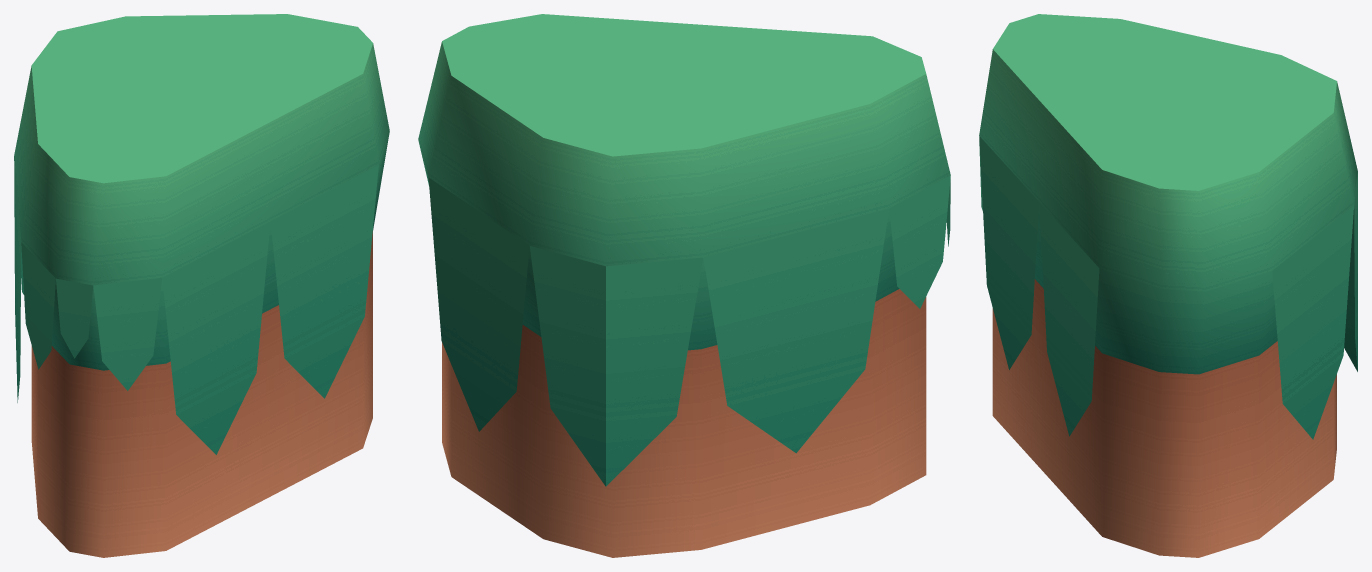
File: block-grass-corner-overhang-low.020_lev2.glb
The picture shows the model from 3 angles, left to right: view 1: azimuth 30°, elevation 25°; view 2: azimuth 150°, elevation 25°; view 3: azimuth 270°, elevation 25°; orthographic projection. The views are drawn at different scales.
Parts seen in each view (by area): view 1: block-grass-corner-overhang-low.020_lev2; view 2: block-grass-corner-overhang-low.020_lev2; view 3: block-grass-corner-overhang-low.020_lev2.
Boxes of the visible parts, x1=… form: block-grass-corner-overhang-low.020_lev2: x1=14, y1=14, x2=389, y2=557; block-grass-corner-overhang-low.020_lev2: x1=418, y1=14, x2=950, y2=557; block-grass-corner-overhang-low.020_lev2: x1=979, y1=14, x2=1357, y2=557.
Bounding box in the file's own units: 3.25 × 2.86 × 2.67.
Materials: 1 (1 with a texture image).
